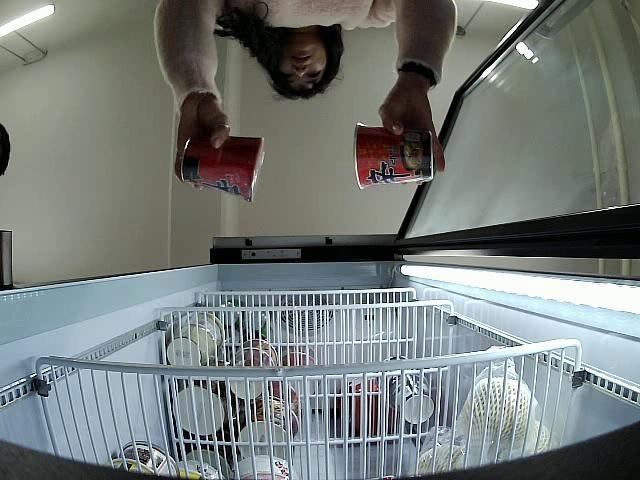02_shinRamen_S: (180, 130, 265, 205), (353, 120, 434, 192)
